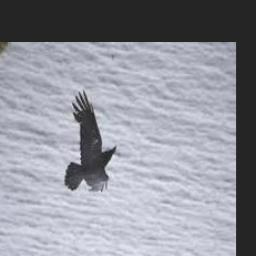Crow: (64, 90, 117, 195)
